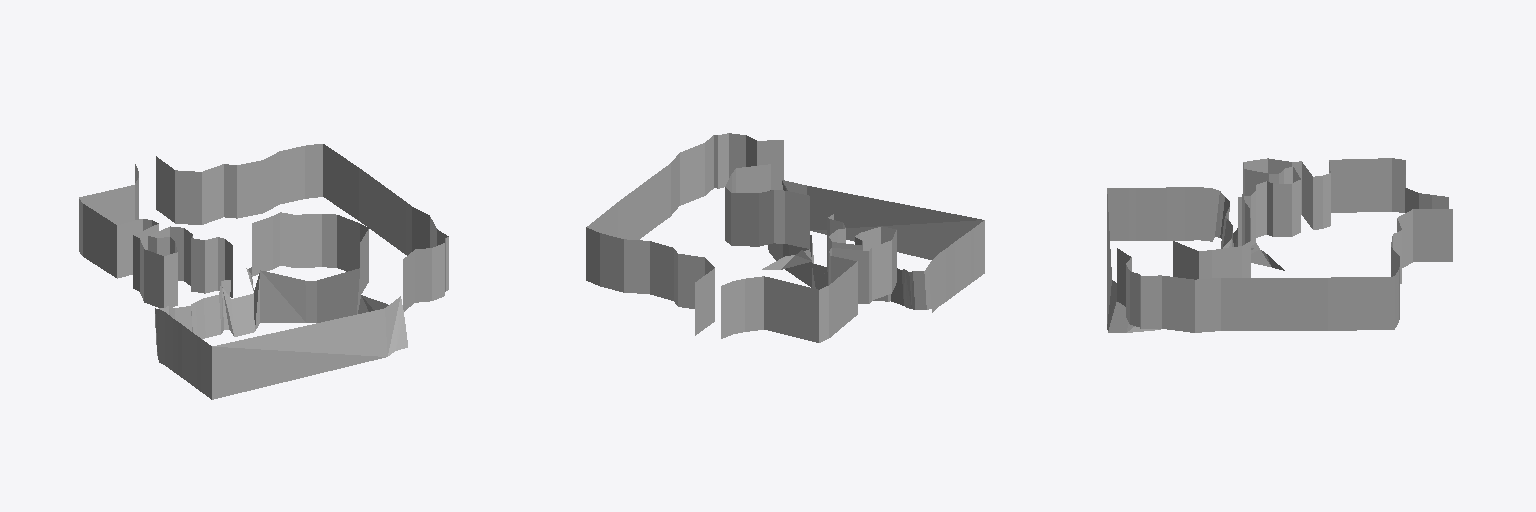
Rendered from terrain_wall_collide.obj.
3 renders of one model, left to right at view 1: azimuth 30°, elevation 25°; view 2: azimuth 150°, elevation 25°; view 3: azimuth 270°, elevation 25°, orthographic.
Parts seen in each view (by area): view 1: Plane_Plane.002; view 2: Plane_Plane.002; view 3: Plane_Plane.002.
Boxes of the visible parts, box(x1,y1,x2,y2) form: Plane_Plane.002: box(79, 144, 448, 399); Plane_Plane.002: box(586, 133, 984, 342); Plane_Plane.002: box(1107, 158, 1452, 332).
Bounding box in the file's own units: 44.69 × 17.22 × 51.1.